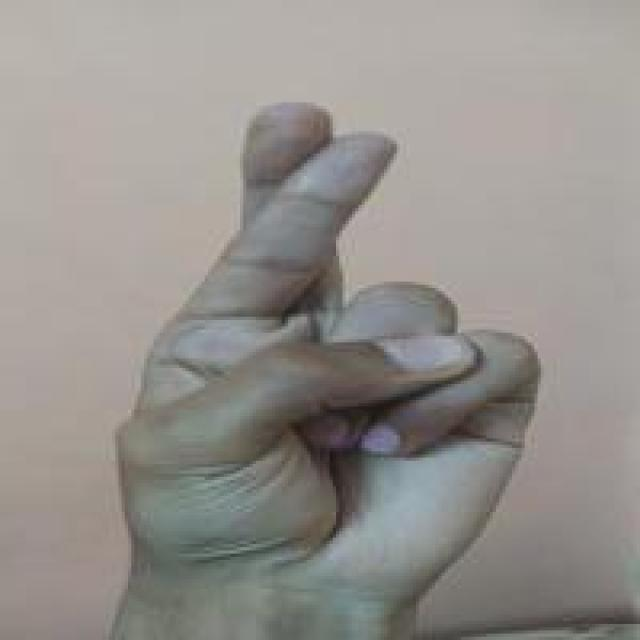R: (109, 91, 550, 616)
